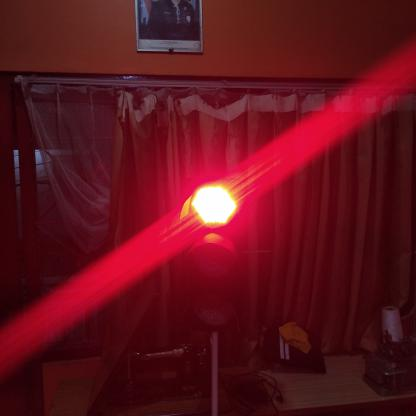red: (182, 172, 244, 332)
